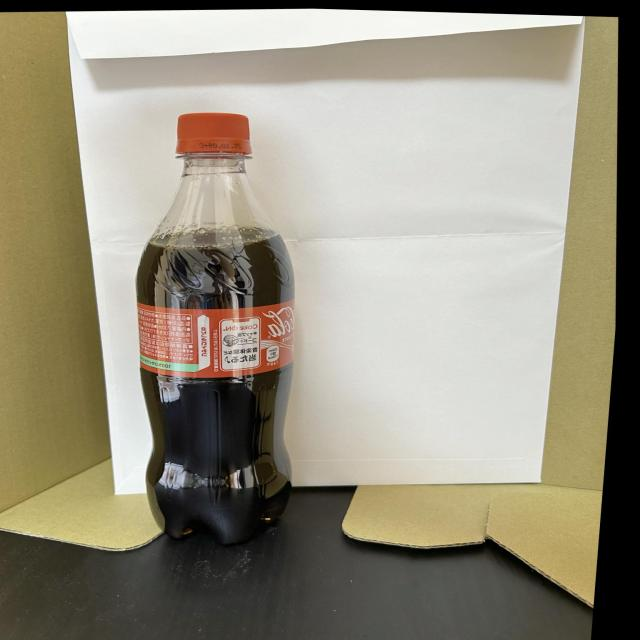high: (137, 113, 296, 544)
